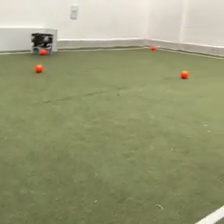ball: (180, 68, 189, 78), (34, 63, 43, 72), (40, 49, 47, 57), (150, 44, 157, 51)
goal: (1, 26, 59, 52)
robot: (29, 30, 53, 55)
